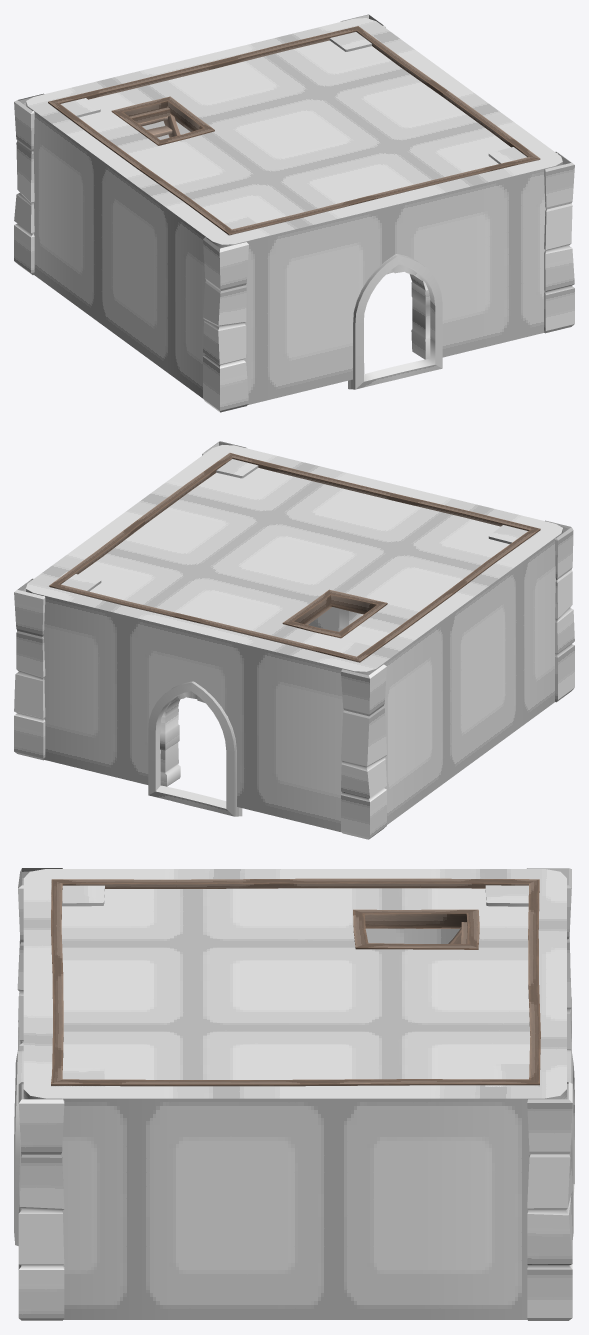
Rendered from SM_TowerE_Mid2Door.fbx.
3 views of the same model, one above another, from view 1: azimuth 30°, elevation 25°; view 2: azimuth 150°, elevation 25°; view 3: azimuth 270°, elevation 25° (orthographic). The views are drawn at different scales.
Parts seen in each view (by area): view 1: SM_TowerE_Mid2Door_LOD0; view 2: SM_TowerE_Mid2Door_LOD0; view 3: SM_TowerE_Mid2Door_LOD0.
Part boxes in pixels (x1,y1,x2,y2): SM_TowerE_Mid2Door_LOD0: [14, 14, 574, 412]; SM_TowerE_Mid2Door_LOD0: [14, 441, 574, 839]; SM_TowerE_Mid2Door_LOD0: [14, 868, 574, 1320].
Bounding box in the file's own units: 1022 × 1033 × 494.
